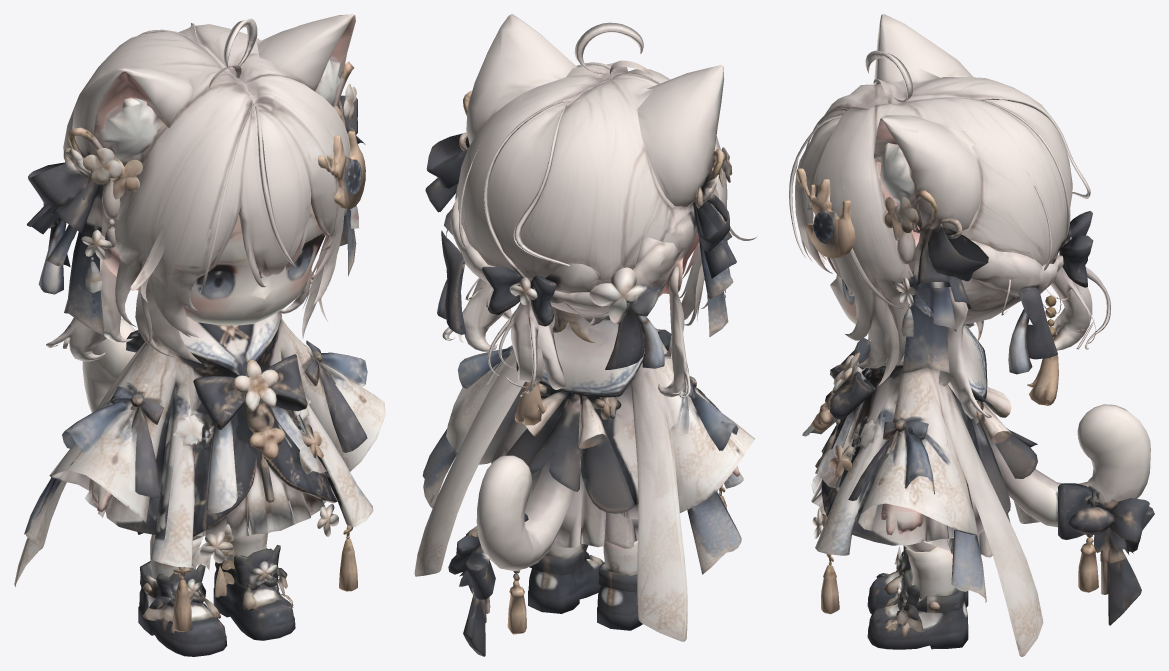
Rendered from source.glb.
The picture shows the model from 3 angles, left to right: view 1: azimuth 30°, elevation 25°; view 2: azimuth 150°, elevation 25°; view 3: azimuth 270°, elevation 25°; orthographic projection. The views are drawn at different scales.
Parts seen in each view (by area): view 1: tripo_part_1, tripo_part_0, tripo_part_16, tripo_part_9, tripo_part_27, tripo_part_8, tripo_part_26, tripo_part_5, tripo_part_6, tripo_part_132, tripo_part_87, tripo_part_18 (+28 smaller); view 2: tripo_part_1, tripo_part_0, tripo_part_16, tripo_part_20, tripo_part_27, tripo_part_62, tripo_part_3, tripo_part_8, tripo_part_138, tripo_part_5, tripo_part_90, tripo_part_17 (+33 smaller); view 3: tripo_part_1, tripo_part_0, tripo_part_27, tripo_part_20, tripo_part_62, tripo_part_13, tripo_part_16, tripo_part_5, tripo_part_36, tripo_part_31, tripo_part_135, tripo_part_3 (+32 smaller).
Boxes of the visible parts, x1,y1,x2,y2 form: tripo_part_1: (63,24,350,363); tripo_part_0: (14,311,385,586); tripo_part_16: (72,66,193,159); tripo_part_9: (101,204,325,325); tripo_part_27: (255,14,355,105); tripo_part_8: (98,449,325,536); tripo_part_26: (193,354,307,429); tripo_part_5: (213,569,295,640); tripo_part_6: (138,588,227,656); tripo_part_132: (64,184,104,335); tripo_part_87: (135,351,367,569); tripo_part_18: (46,235,133,361); tripo_part_1: (457,62,756,325); tripo_part_0: (446,315,754,641); tripo_part_16: (637,65,724,206); tripo_part_20: (476,451,581,570); tripo_part_27: (466,14,577,145); tripo_part_62: (414,352,523,576); tripo_part_3: (487,298,566,396); tripo_part_8: (525,469,638,548); tripo_part_138: (580,427,635,513); tripo_part_5: (528,557,603,613); tripo_part_90: (527,396,580,491); tripo_part_17: (482,267,556,326); tripo_part_1: (795,65,1072,385); tripo_part_0: (815,324,1039,555); tripo_part_27: (874,115,983,232); tripo_part_20: (982,404,1150,527); tripo_part_62: (947,408,1043,656); tripo_part_13: (883,355,1149,542); tripo_part_16: (874,14,973,84); tripo_part_5: (867,601,968,649); tripo_part_36: (928,223,988,331); tripo_part_31: (970,240,1063,297); tripo_part_135: (902,224,949,373); tripo_part_3: (1049,262,1110,350).
Bounding box in the file's own units: 0.8742 × 1.5 × 0.8669.
1 material, 1 textured.
